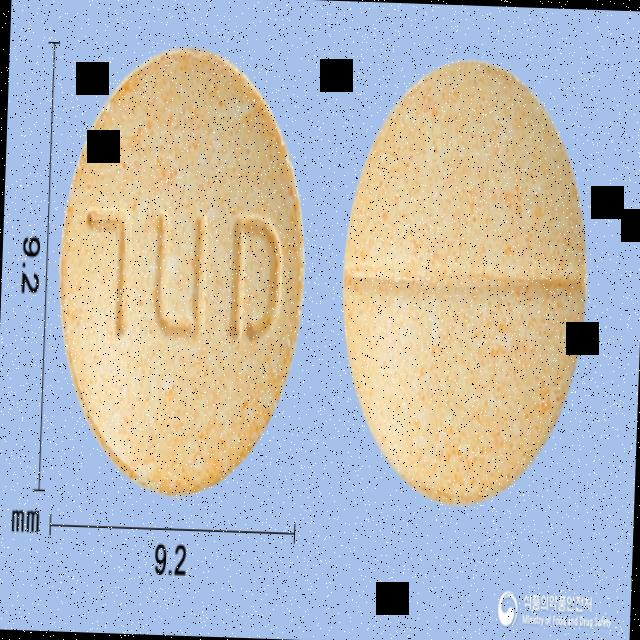Doxymedi: (52, 42, 314, 502)
